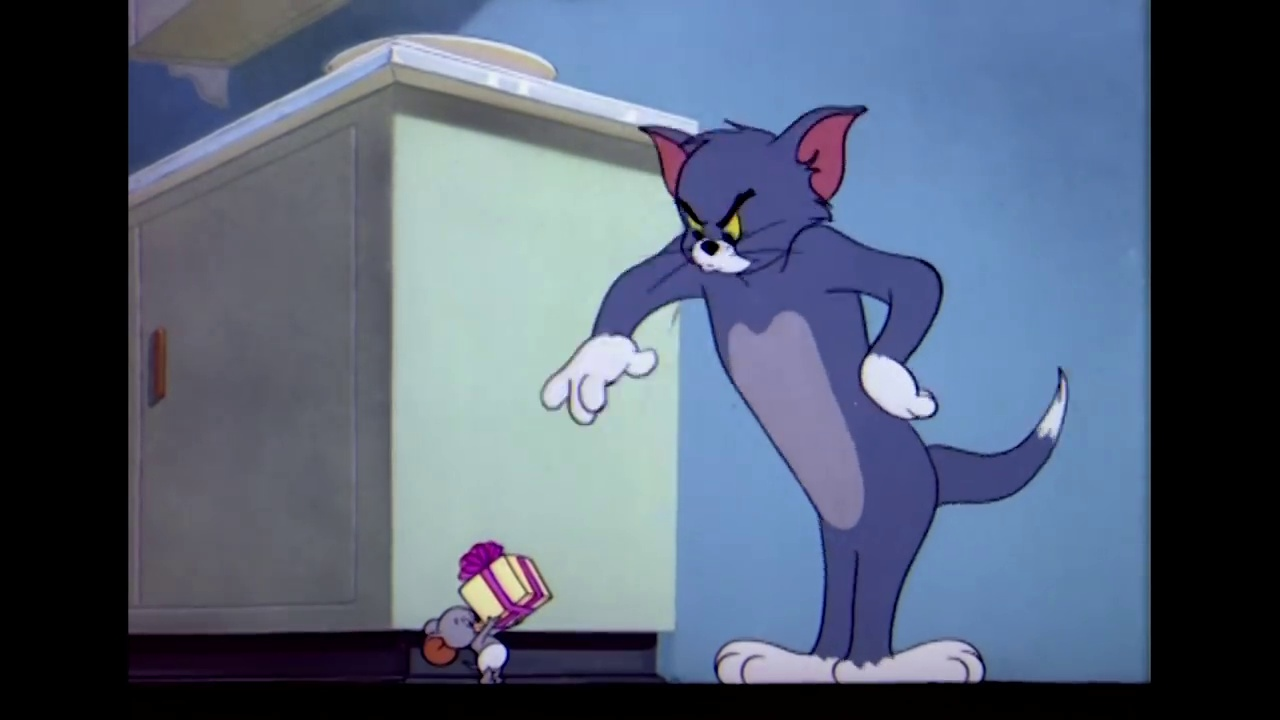tom: (633, 103, 866, 280)
